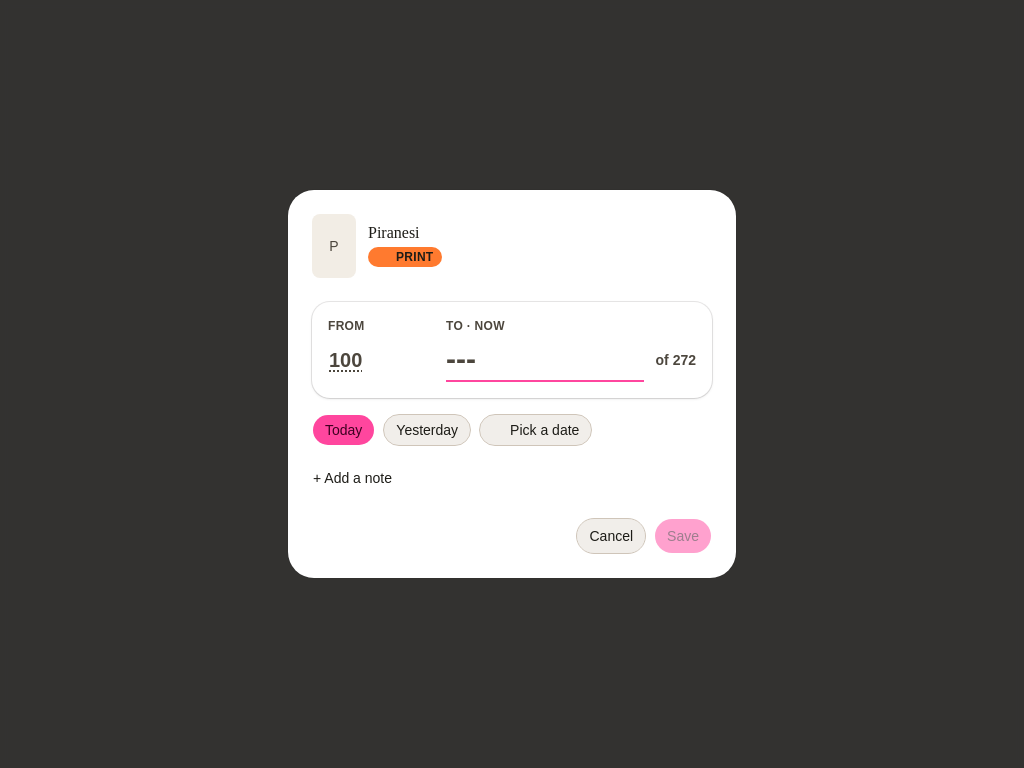
Test case: ProgressLogSheet › refuses a start past where the read has got to
Click the button named "Edit start position": (346, 360) [328,344,363,376]
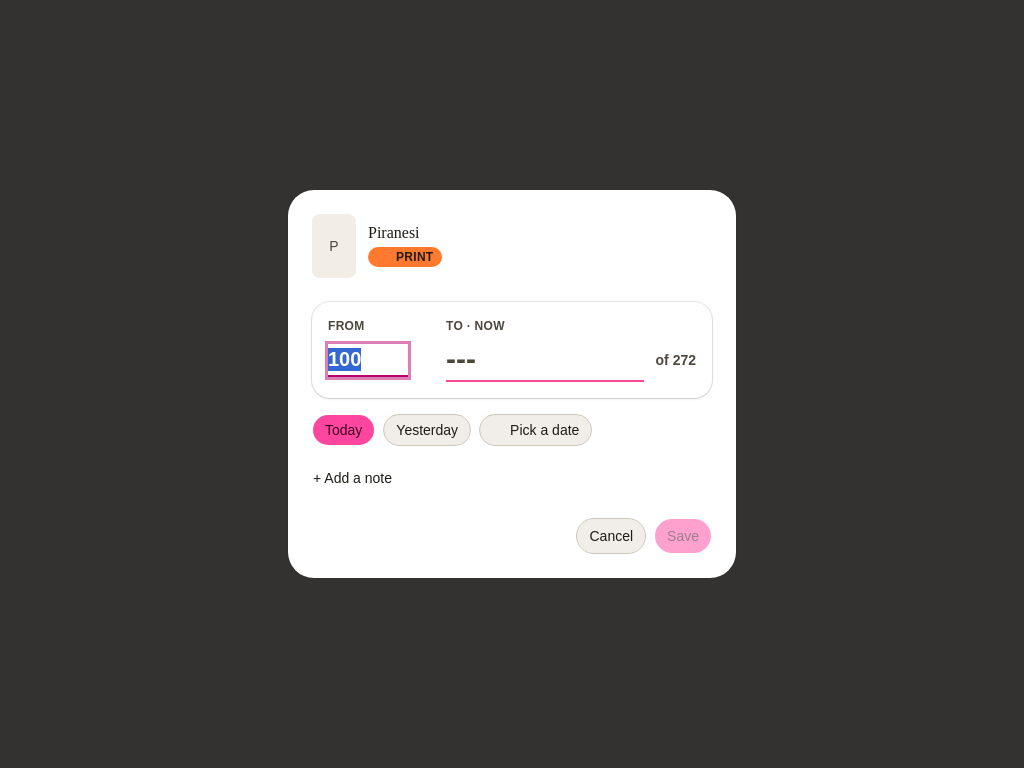
Replace the text in the field named "start position" with "150": (368, 360) [328,344,408,376]
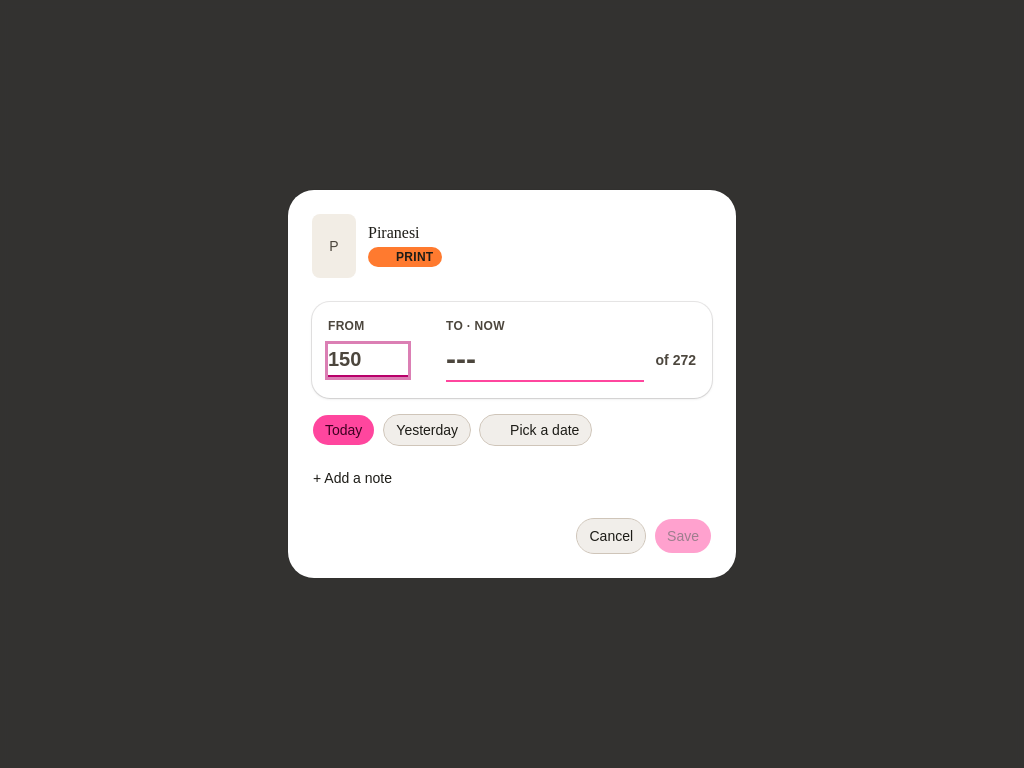
Press Tab
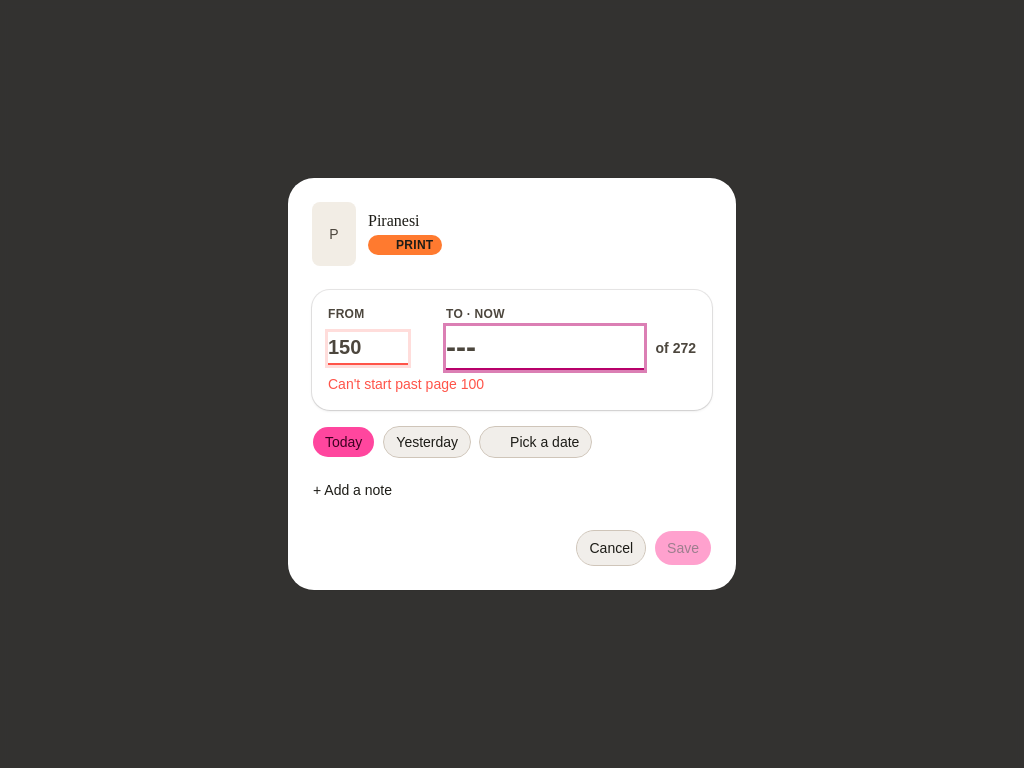
Expected: the button with aria-label "Save progress for Piranesi" is disabled, [654,530,712,566]
Now the text "Can't start past page 100" is shown, box [328,376,484,392]
